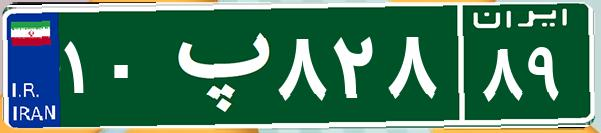0: (110, 28, 158, 105)
1: (57, 26, 110, 107)
2: (330, 28, 385, 110)
8: (385, 28, 445, 110), (273, 28, 330, 110), (475, 38, 525, 113)
9: (525, 38, 570, 115)
پ: (158, 15, 273, 115)
